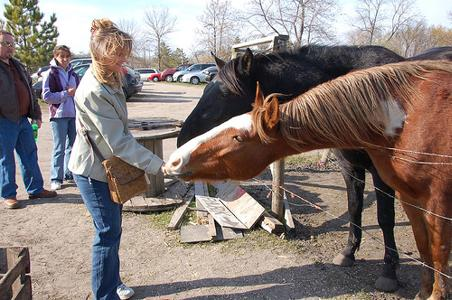person: (69, 17, 169, 300)
